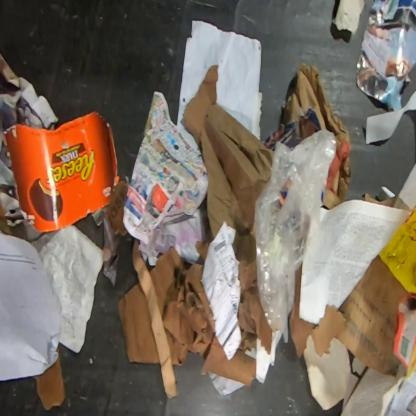cardboard: (4, 110, 120, 234), (336, 254, 407, 376), (34, 351, 66, 411), (393, 292, 415, 378)
soft_plastic: (254, 130, 338, 344), (102, 211, 120, 288)
